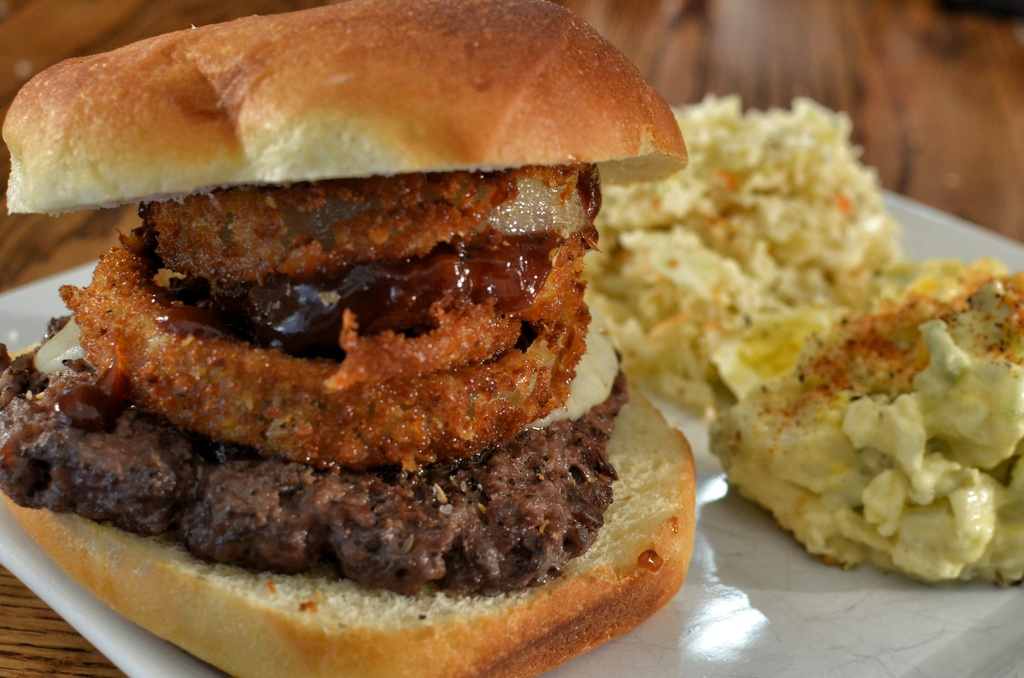Hamburger: (0, 0, 698, 677)
